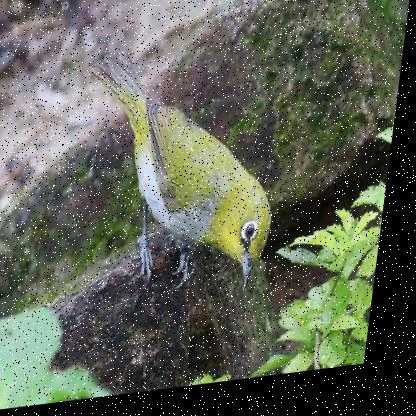Burung: (70, 37, 298, 318)
